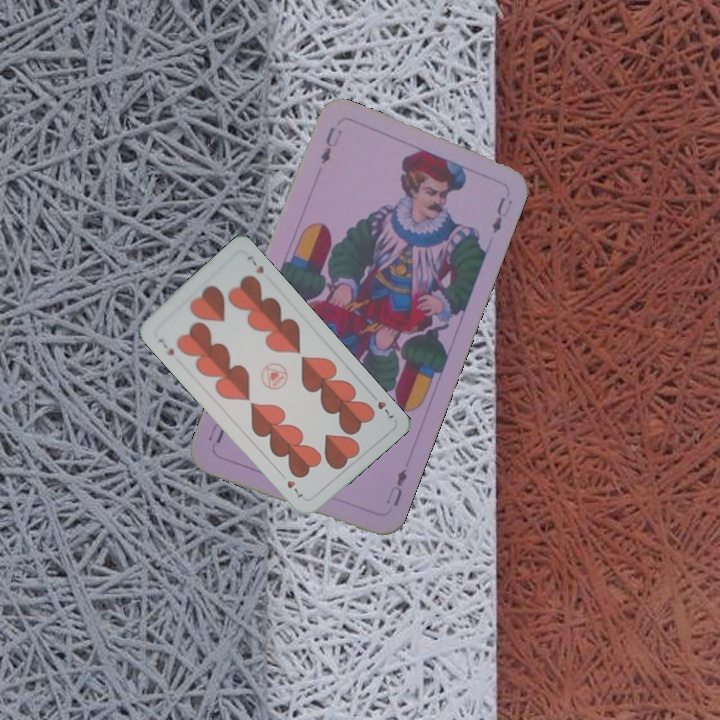EU: (382, 464, 410, 509), (316, 123, 344, 167)
H7: (366, 389, 397, 421), (154, 335, 177, 359)
